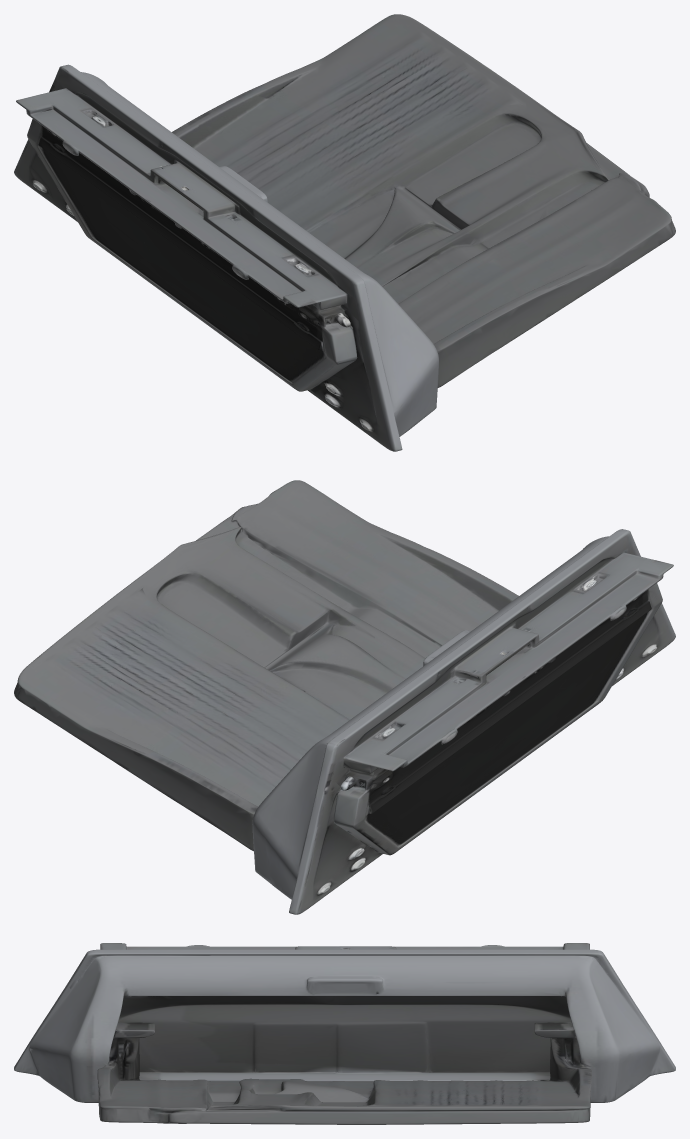
Rendered from BP-TR12 1.meshopt.glb.
3 views of the same model, one above another, from view 1: azimuth 30°, elevation 25°; view 2: azimuth 150°, elevation 25°; view 3: azimuth 270°, elevation 25° (orthographic). The views are drawn at different scales.
Visible parts, largest first — view 1: node_0.005; view 2: node_0.005; view 3: node_0.005.
Part boxes in pixels (left/top/right/bottom): node_0.005: left=14, top=14, right=675, bottom=451; node_0.005: left=14, top=480, right=675, bottom=914; node_0.005: left=14, top=943, right=675, bottom=1124.
Bounding box in the file's own units: 0.3577 × 0.1241 × 0.5953.
Materials: 1 (1 with a texture image).
